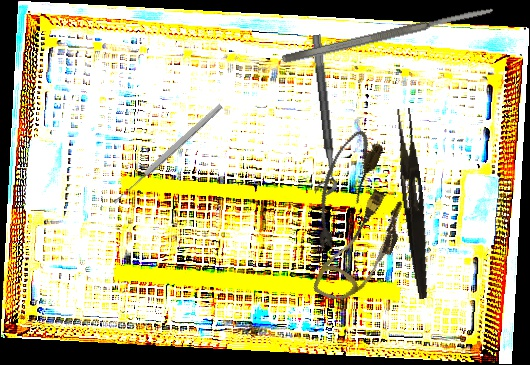Cannula: (311, 182, 413, 315), (297, 124, 387, 258)
Dressing Forceps: (389, 107, 438, 300)
Fixation Ring: (298, 34, 339, 197)
Spatula Surgical: (280, 4, 497, 66)
Surgical Spoon: (110, 102, 225, 206)
